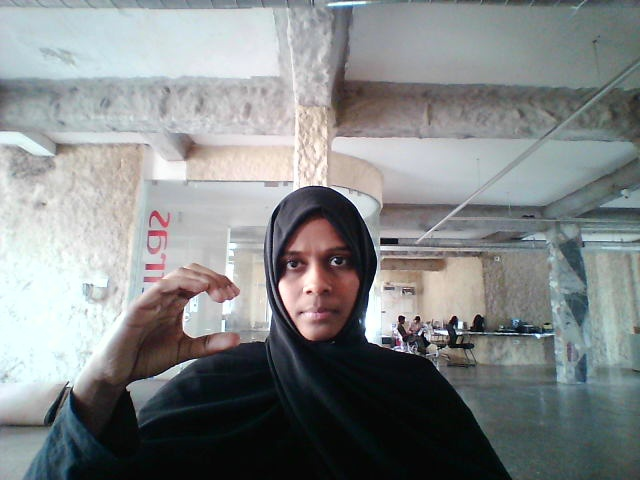NO: (76, 233, 258, 383)
